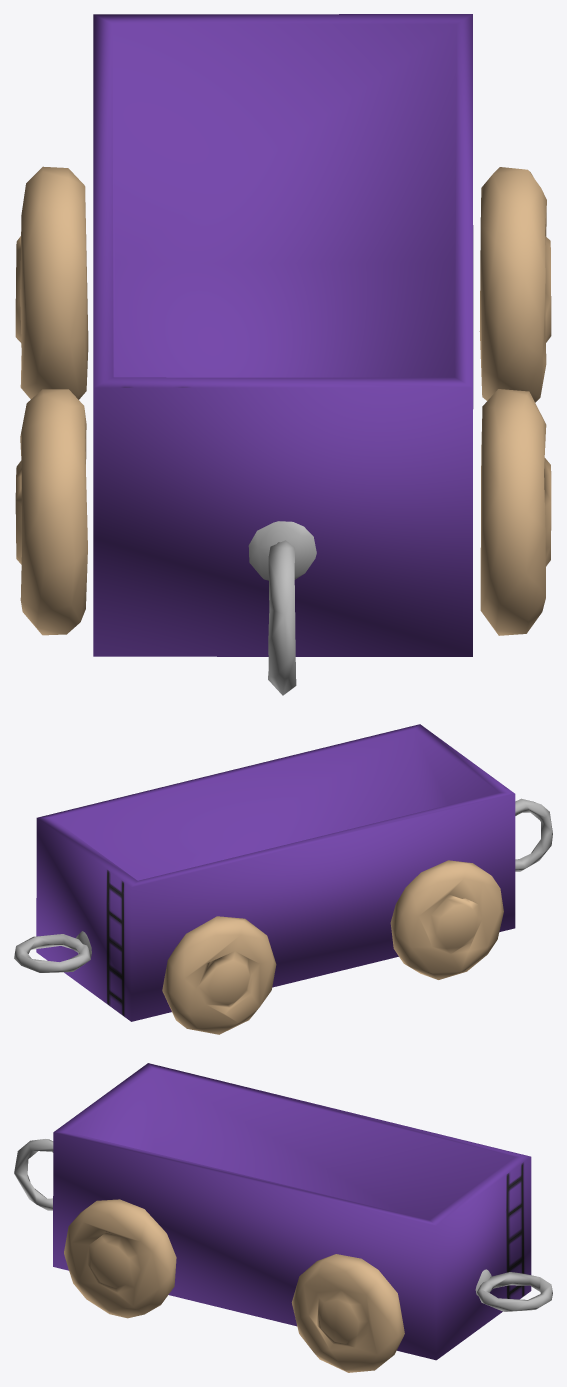
File: viola.fbx
3 views of the same model, one above another, from view 1: azimuth 30°, elevation 25°; view 2: azimuth 150°, elevation 25°; view 3: azimuth 270°, elevation 25° (orthographic). The views are drawn at different scales.
Parts seen in each view (by area): view 1: vagone6; view 2: vagone6; view 3: vagone6.
Part boxes in pixels (x1,y1,x2,y2): vagone6: (15,14,551,695); vagone6: (14,724,552,1034); vagone6: (14,1063,552,1372).
Size of the model in its own units: 427 by 181 by 564.
3 materials, 1 textured.
